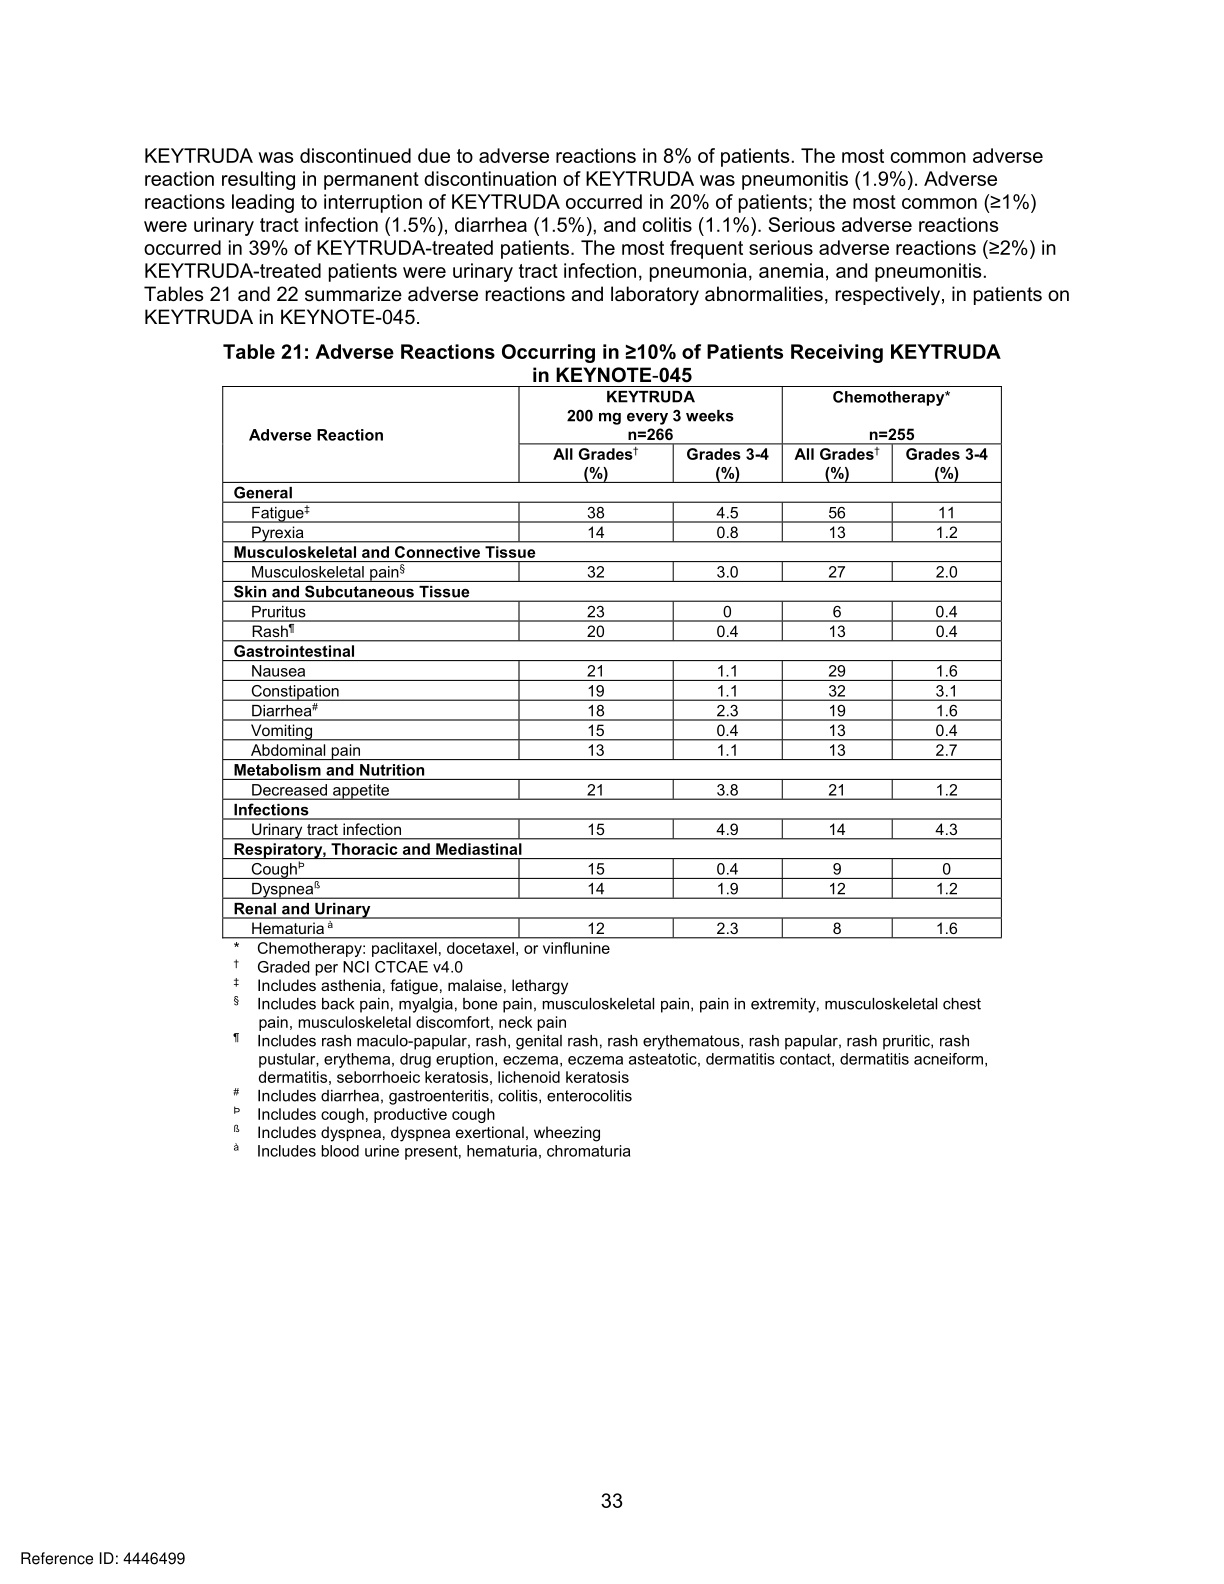merged_cells: (220, 384, 1003, 940)
